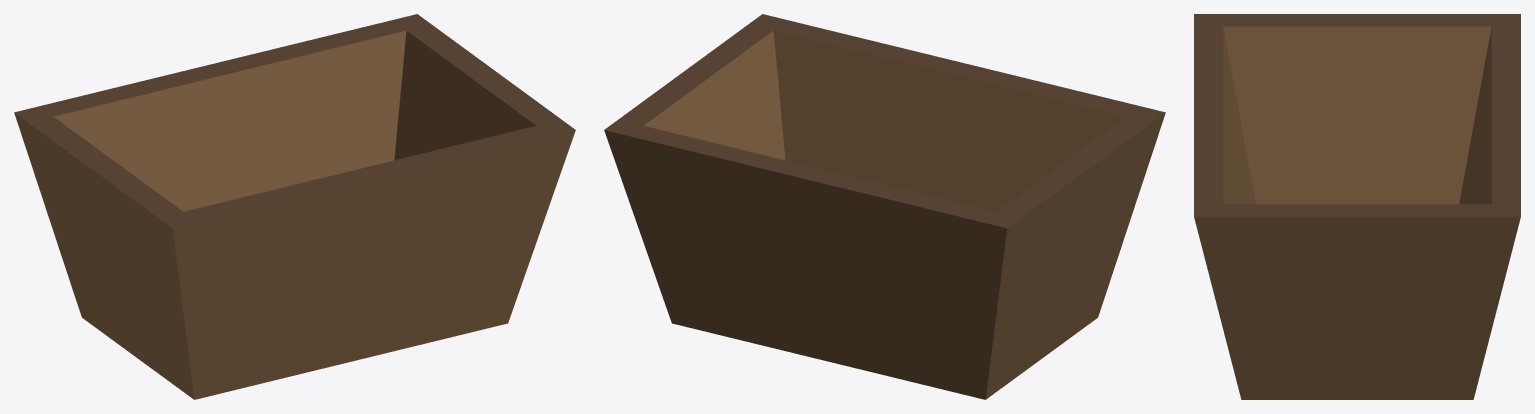
File: fish_box.glb
3 views of the same model, side by side, from view 1: azimuth 30°, elevation 25°; view 2: azimuth 150°, elevation 25°; view 3: azimuth 270°, elevation 25° (orthographic). The views are drawn at different scales.
Parts seen in each view (by area): view 1: Fish box; view 2: Fish box; view 3: Fish box.
Part boxes in pixels (left/top/right/bottom): Fish box: left=14, top=14, right=575, bottom=399; Fish box: left=604, top=14, right=1165, bottom=399; Fish box: left=1194, top=14, right=1520, bottom=399.
Bounding box in the file's own units: 0.72 × 0.34 × 0.49.
